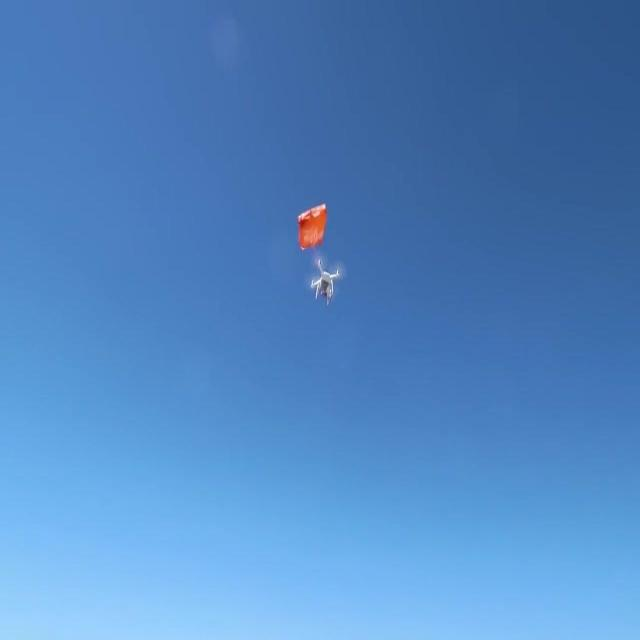drone: (311, 256, 319, 268)
